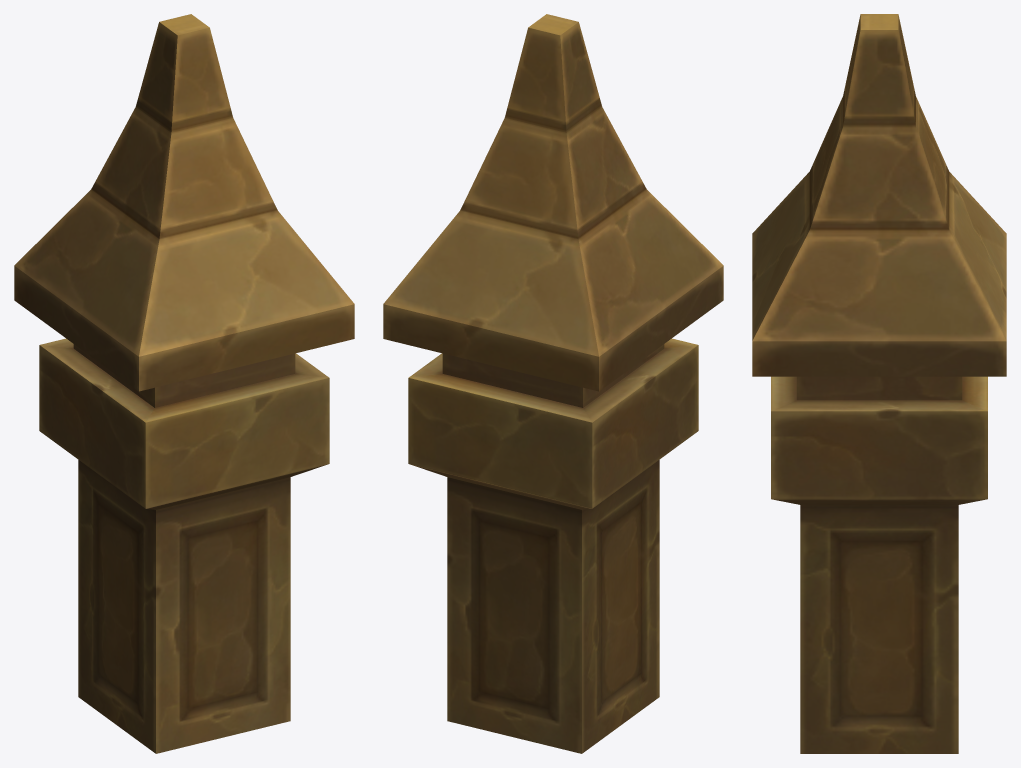
The model's file is Stage_01_02_WeiLan01.FBX.
The picture shows the model from 3 angles, left to right: view 1: azimuth 30°, elevation 25°; view 2: azimuth 150°, elevation 25°; view 3: azimuth 270°, elevation 25°; orthographic projection. The views are drawn at different scales.
Parts seen in each view (by area): view 1: Stage_01_02_WeiLan01; view 2: Stage_01_02_WeiLan01; view 3: Stage_01_02_WeiLan01.
Part boxes in pixels (<box>): Stage_01_02_WeiLan01: <box>14,14,354,753</box>; Stage_01_02_WeiLan01: <box>383,14,723,753</box>; Stage_01_02_WeiLan01: <box>752,14,1006,753</box>.
Size of the model in its own units: 94.85 by 287 by 94.85.
